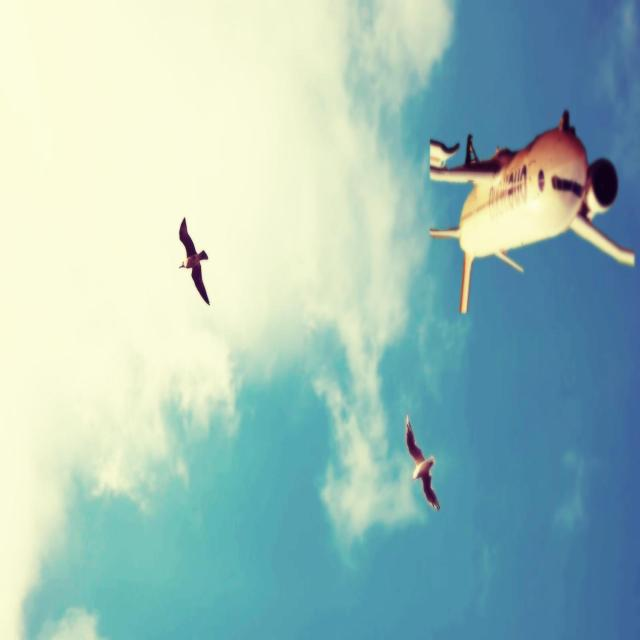airplane: (428, 108, 635, 314)
